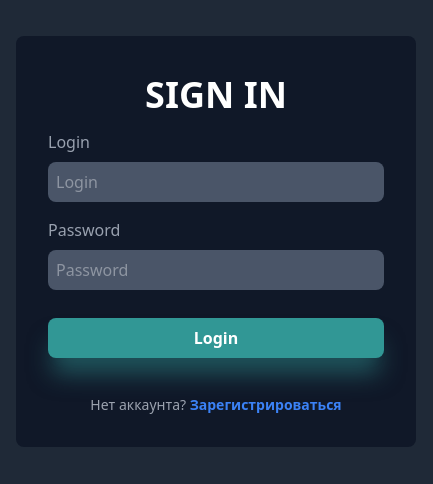
AuthForm Jest Tests › должен показать ошибку валидации при пустых полях
Click the button "Login" at (216, 338), box [48,318,384,358]
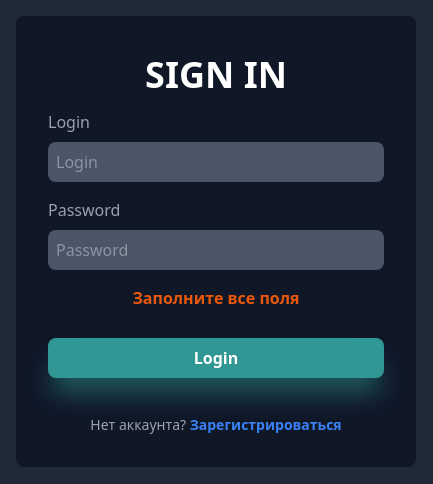
Expected: the text "Заполните все поля" is shown, [132,286,300,308]
